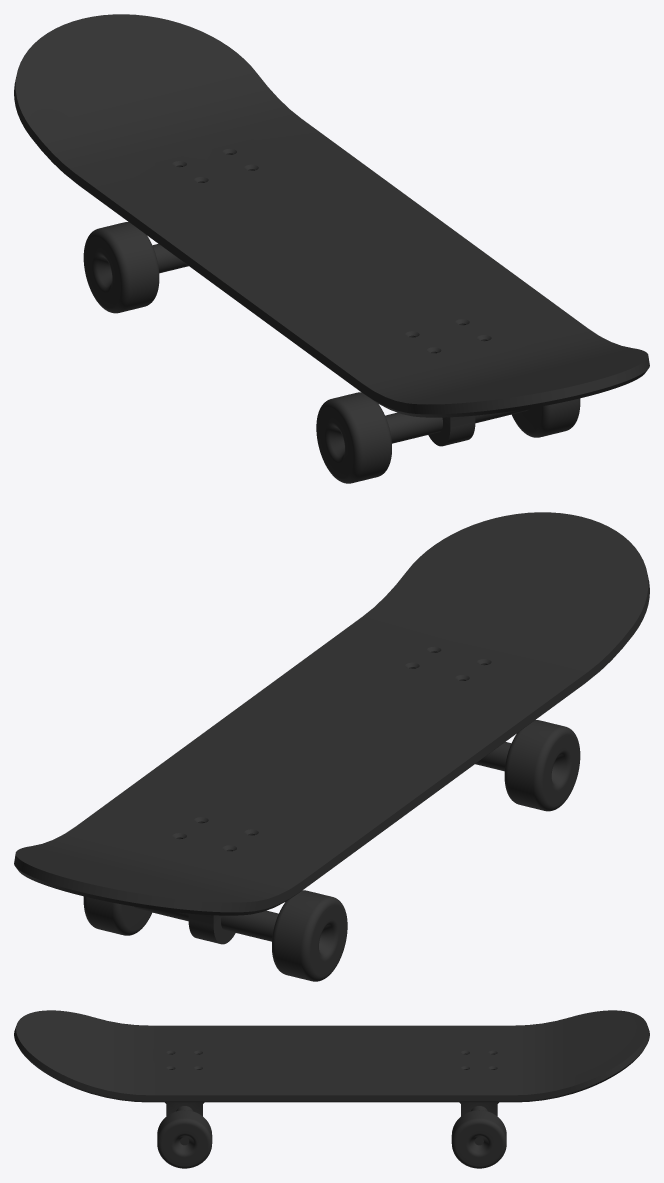
Rendered from Skateboard.glb.
The picture shows the model from 3 angles, top to bottom: view 1: azimuth 30°, elevation 25°; view 2: azimuth 150°, elevation 25°; view 3: azimuth 270°, elevation 25°; orthographic projection. The views are drawn at different scales.
Parts seen in each view (by area): view 1: skateboard_skateboard.1; view 2: skateboard_skateboard.1; view 3: skateboard_skateboard.1.
Boxes of the visible parts, box(x1,y1,x2,y2) form: skateboard_skateboard.1: box(14, 14, 649, 483); skateboard_skateboard.1: box(14, 512, 649, 981); skateboard_skateboard.1: box(14, 1010, 649, 1168).
Size of the model in its own units: 0.2286 by 0.1624 by 0.8808.
Materials: 1 (1 with a texture image).
